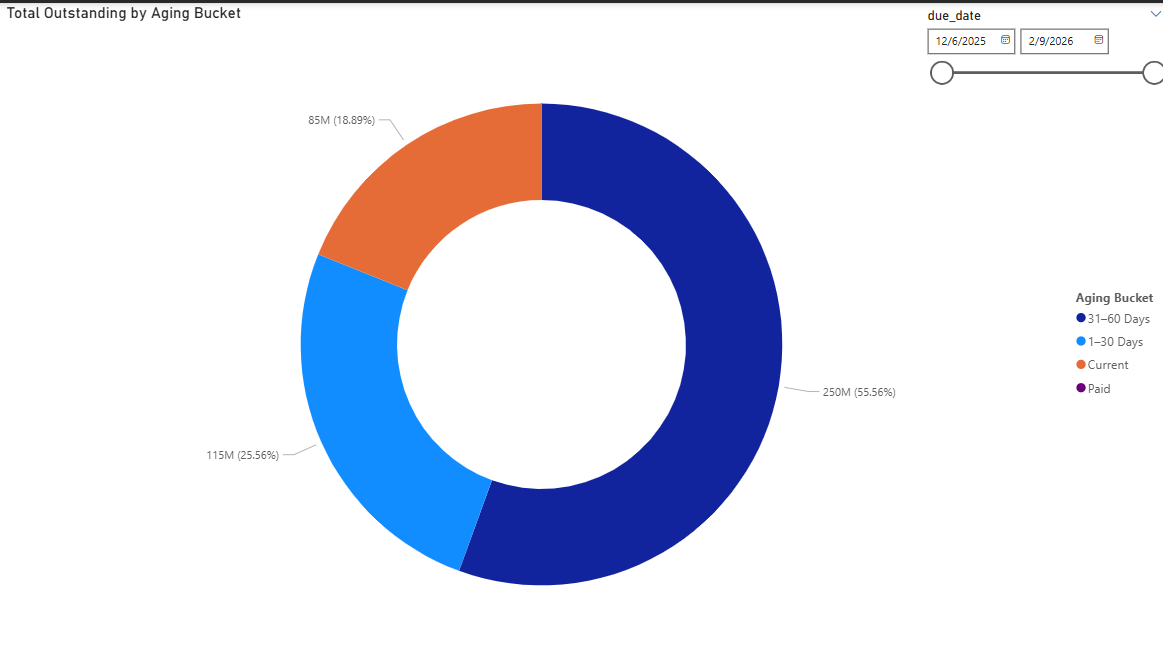

What the dashboard file says about the page in this screenshot:
{"tool":"powerbi","page":{"name":"AR Aging Structure","canvas":[1280,720],"ordinal":2},"visuals":[{"type":"donutChart","fields":{"Category":["finance sales_invoices.Aging Bucket"],"Y":["finance sales_invoices.Total Outstanding"]},"box":[9.8,0,1270.3,720.6],"z":0},{"type":"slicer","fields":{"Values":["finance sales_invoices.due_date"]},"box":[1000.2,0,279.8,279.8],"z":1000}]}

Visuals, with their boxes in screenshot pixels (x1, y1, x2, y2), scaled from the page's 1280x720 canvas onto the 1163x661 screenshot:
donutChart - finance sales_invoices.Aging Bucket x finance sales_invoices.Total Outstanding: box=[9, 0, 1162, 660]
slicer - finance sales_invoices.due_date: box=[909, 0, 1162, 257]
